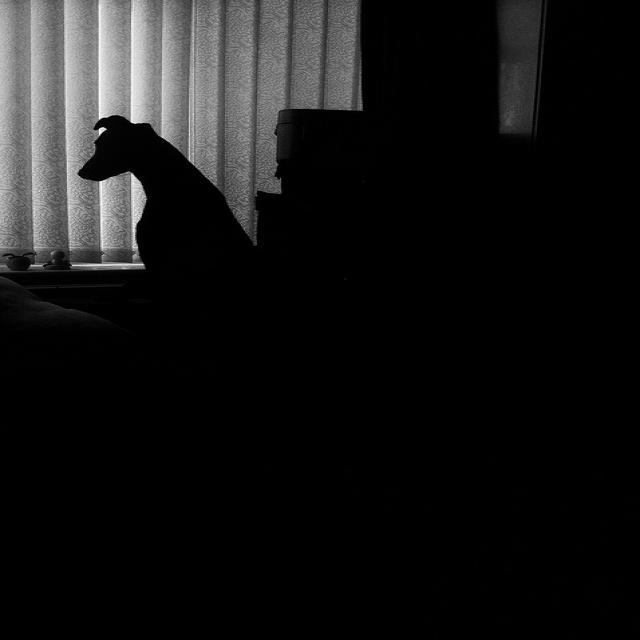Dog: (88, 91, 250, 342)
